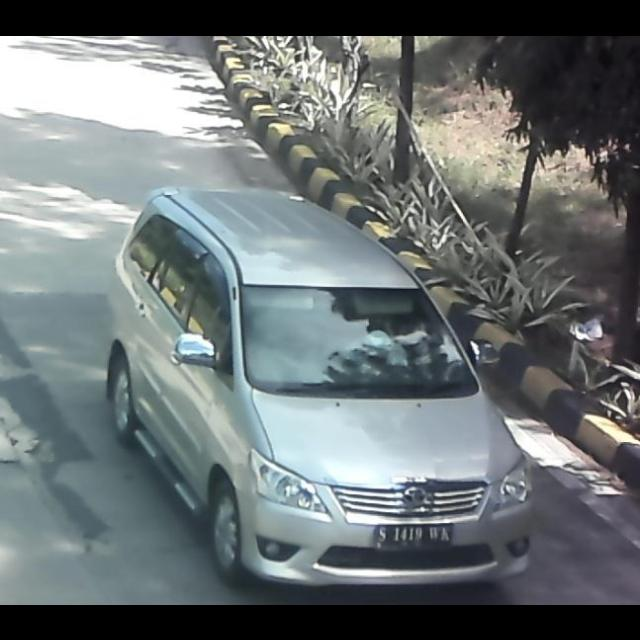plate: (373, 519, 455, 549)
